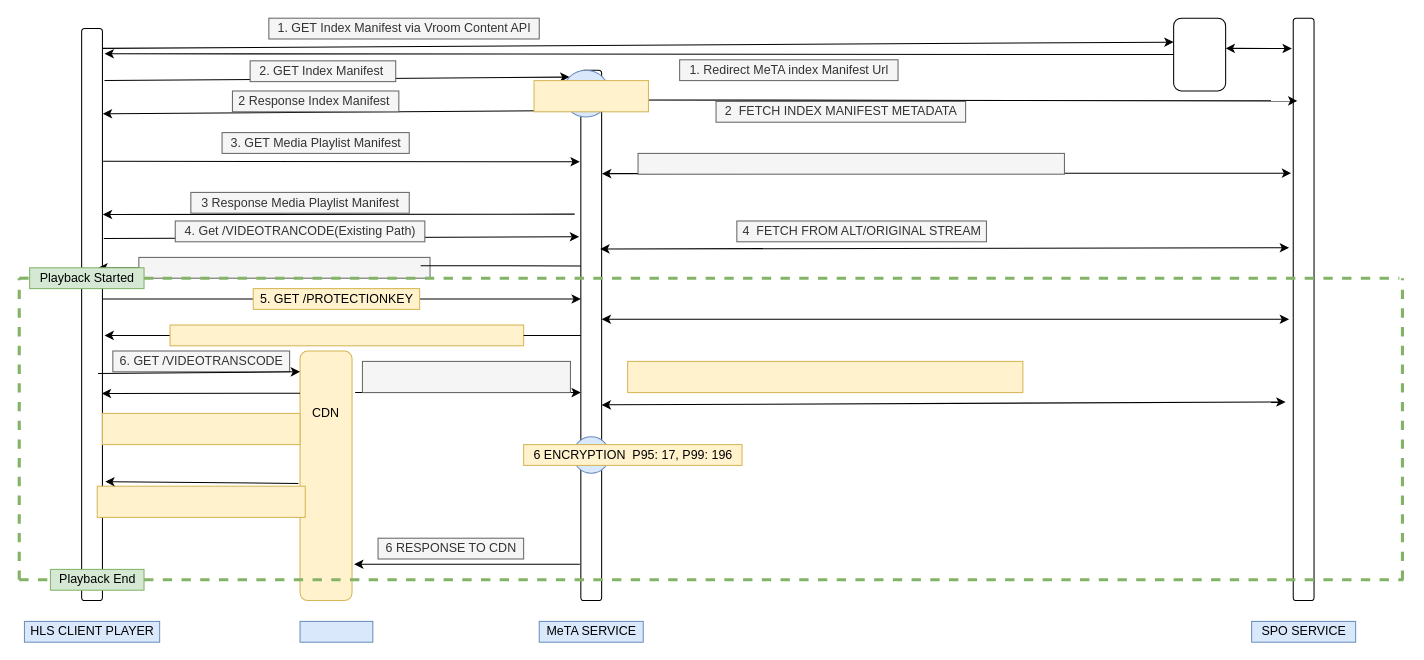
Some shapes in this 1424 by 660 pixel diagram are drawn without their labels. Here are the shapes that lost their labels. From the top down, the centre of each, then its label:
the point at 1199,54: Vroom
the point at 590,96: 2 URL SIGNING P95: 28, P99: 36
the point at 850,163: 3 FETCH MEDIA PLAYLIST MANIFEST METADATA (ONLY UNCACHED)
the point at 284,267: 4. Response /VIDEOTRANCODE (Existing Path)
the point at 346,335: 5 Respone /VIDEOPROTECTIONKEY P95: 1500, P99: 4500
the point at 465,376: 6 B MISS CASE: FETCH CONTENT FROM ORIGIN
the point at 825,376: 6 FETCH ALT-STREAM/ORIGINAL-STREAM (WITH CRYPTO-KEY) FROM SPO
the point at 200,428: 6 A HIT CASE CONTENT SERVED FROM CDN
the point at 200,501: 6 Response /VIDEOTRANSCODE (CDN MISS CASE)
the point at 336,631: AFD CDN
